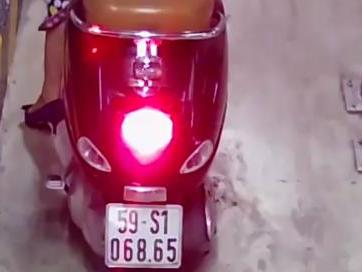num_plate: (106, 202, 181, 269)
